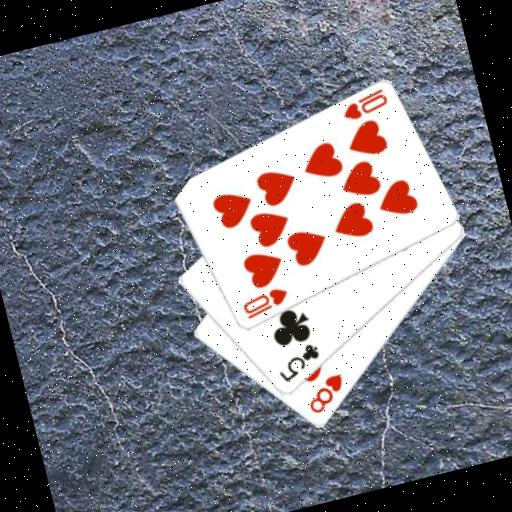10H: (237, 283, 293, 323), (336, 85, 392, 125)
5C: (270, 339, 326, 387)
8H: (300, 371, 352, 419)
